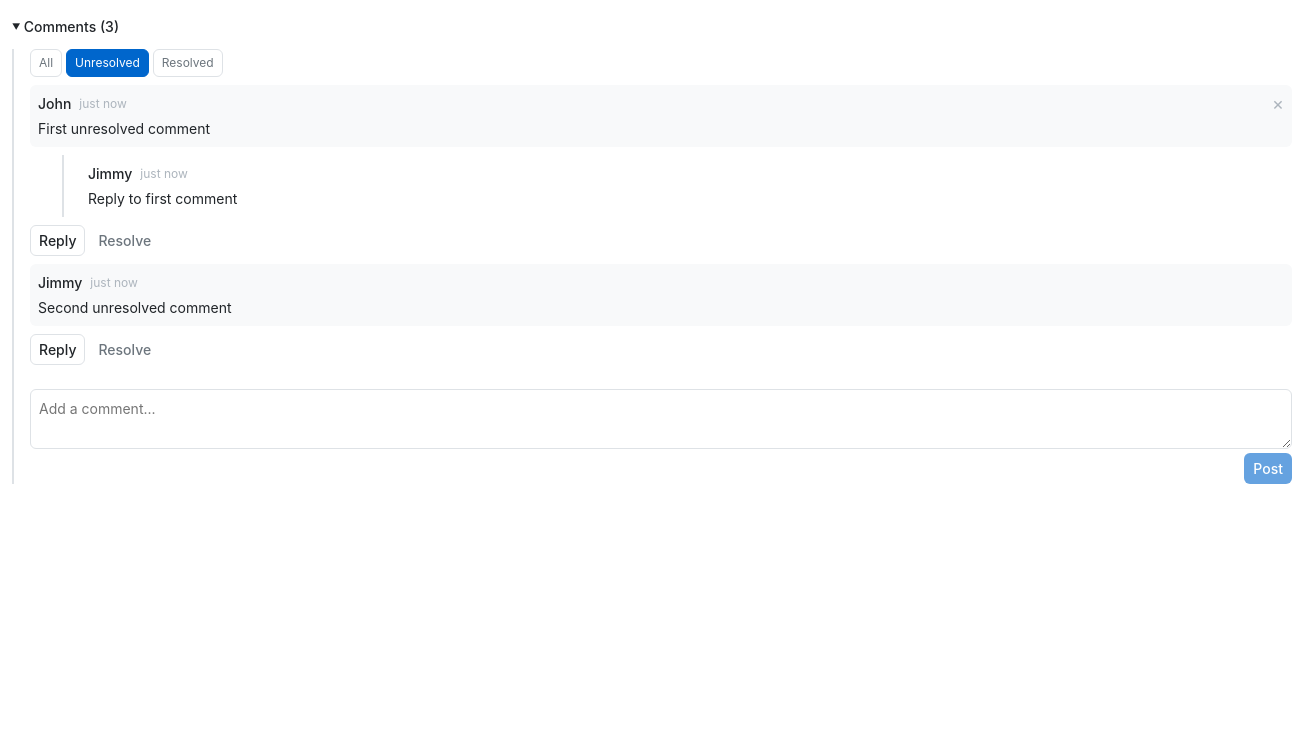
CommentsSection › filtering › should show all comments when 'All' filter is selected
Step 1. Click the button "All" → x=46, y=63, box [30,49,62,77]
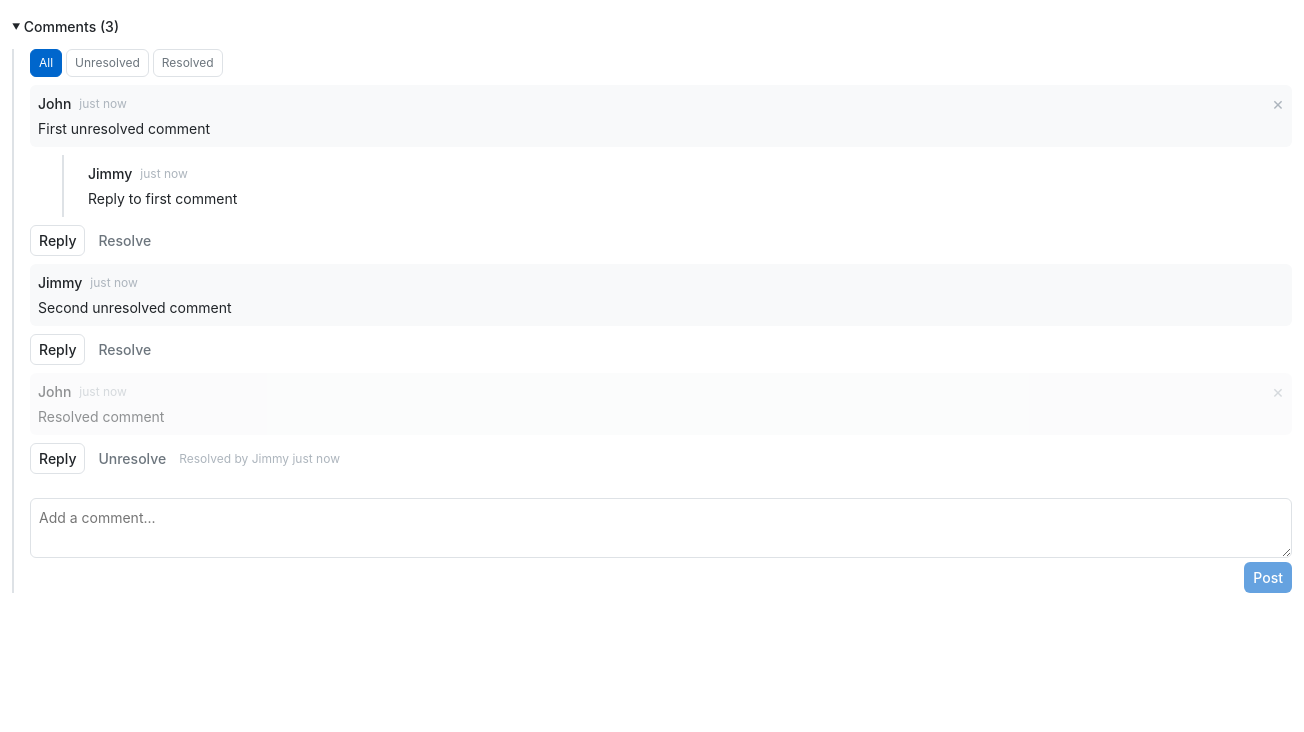
Expected: the text "First unresolved comment" is shown, [38,120,210,137]
Now the text "Resolved comment" is shown, box [38,408,164,425]
